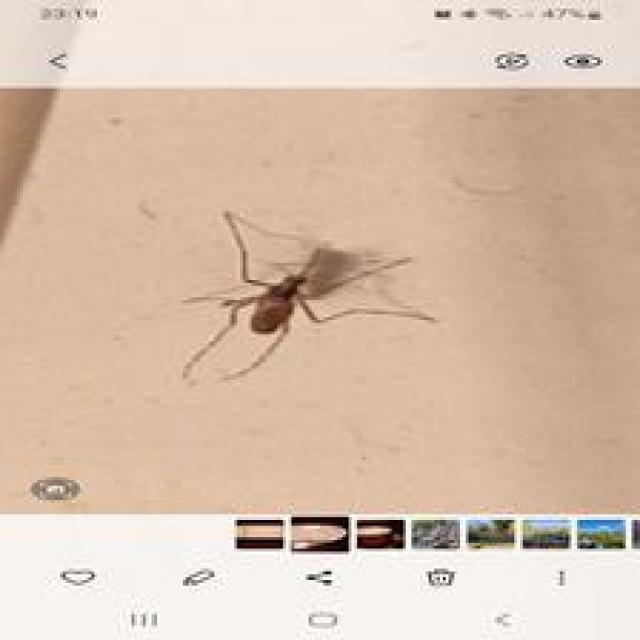Aedes albopictus: (178, 207, 438, 384)
